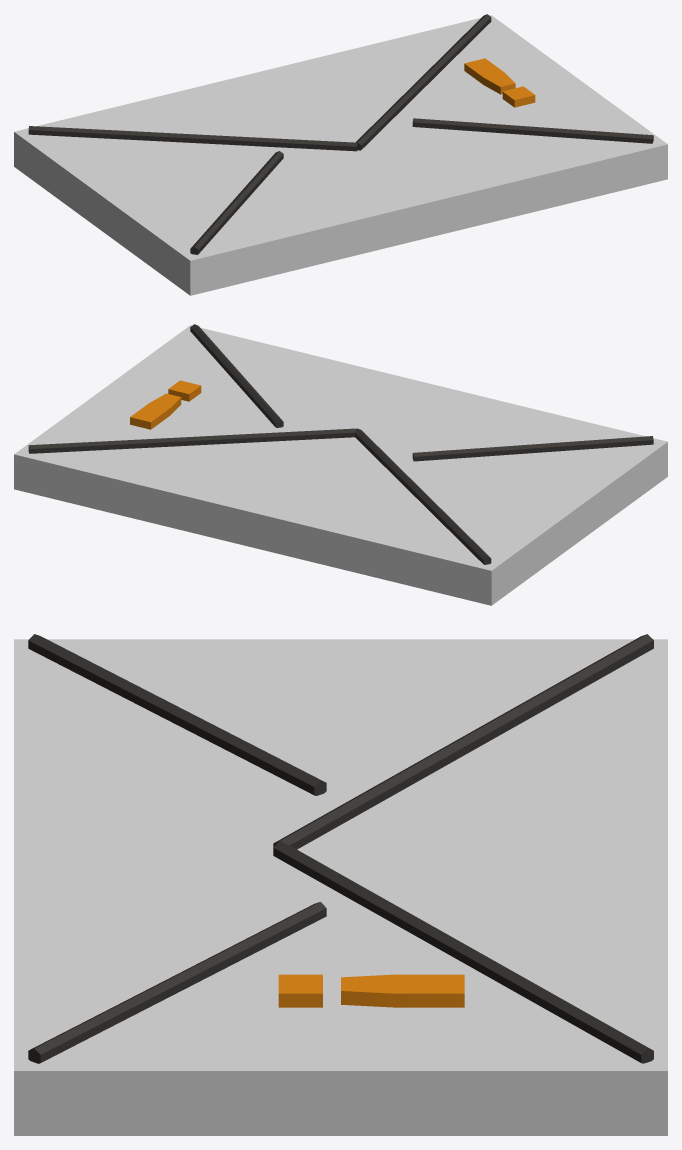
Rendered from everyday_E1-email.glb.
3 views of the same model, one above another, from view 1: azimuth 30°, elevation 25°; view 2: azimuth 150°, elevation 25°; view 3: azimuth 270°, elevation 25° (orthographic). The views are drawn at different scales.
Visible parts, largest first — view 1: envelope_white, fold_ink, alert_amber; view 2: envelope_white, fold_ink, alert_amber; view 3: envelope_white, fold_ink, alert_amber.
Boxes of the visible parts, x1,y1,x2,y2 form: envelope_white: [14, 15, 667, 295]; fold_ink: [28, 14, 653, 254]; alert_amber: [464, 58, 535, 107]; envelope_white: [14, 325, 667, 605]; fold_ink: [28, 324, 653, 564]; alert_amber: [130, 380, 201, 429]; envelope_white: [14, 639, 667, 1135]; fold_ink: [28, 634, 653, 1063]; alert_amber: [278, 974, 464, 1007].
Bounding box in the file's own units: 1 × 0.094 × 0.64.
